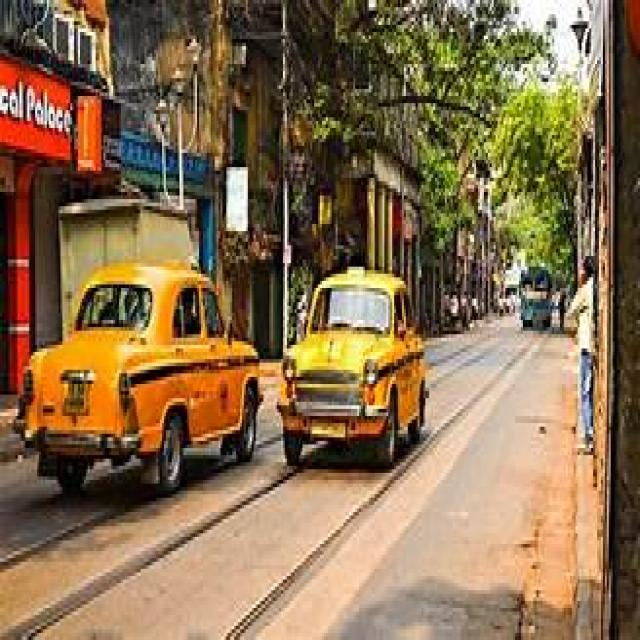Car: (20, 264, 258, 493), (279, 269, 428, 465)
